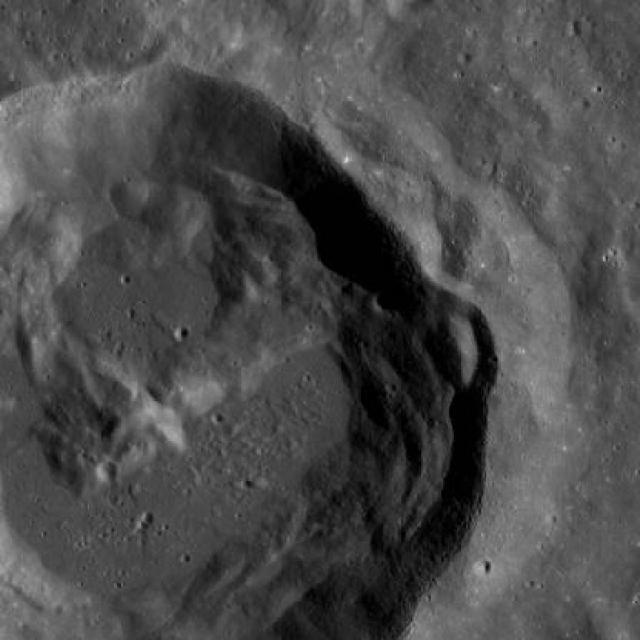crater: (372, 289, 396, 314), (96, 460, 116, 480), (472, 558, 492, 576), (174, 324, 191, 340), (0, 0, 2, 2)
